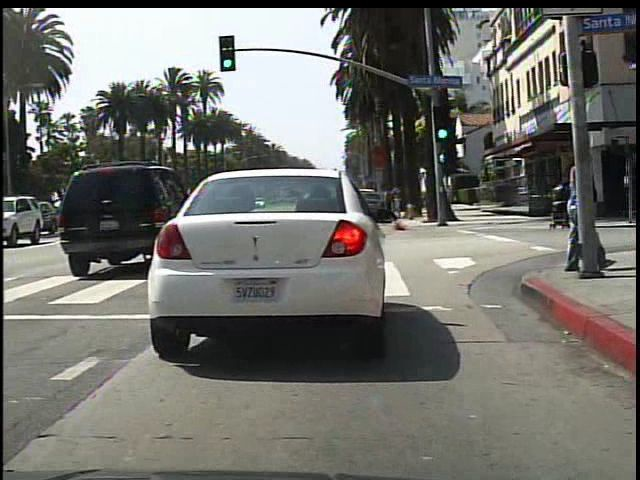person: (548, 140, 592, 274)
